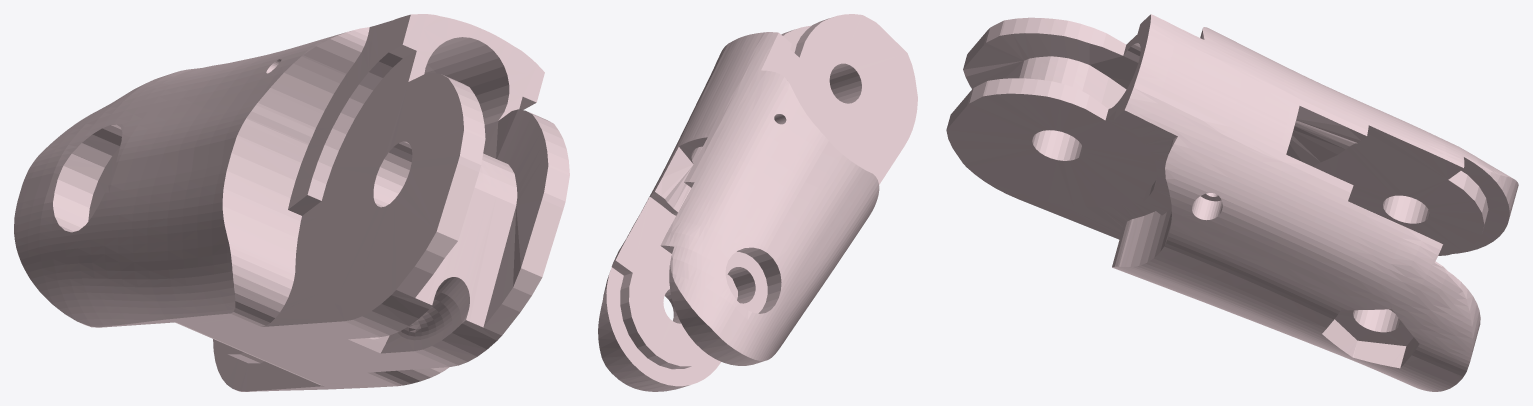
The model's file is i02_leftHand_majeureMid_visual.obj.full.glb.
The picture shows the model from 3 angles, left to right: view 1: azimuth 30°, elevation 25°; view 2: azimuth 150°, elevation 25°; view 3: azimuth 270°, elevation 25°; orthographic projection. The views are drawn at different scales.
Size of the model in its own units: 0.1774 by 0.2775 by 0.393.
